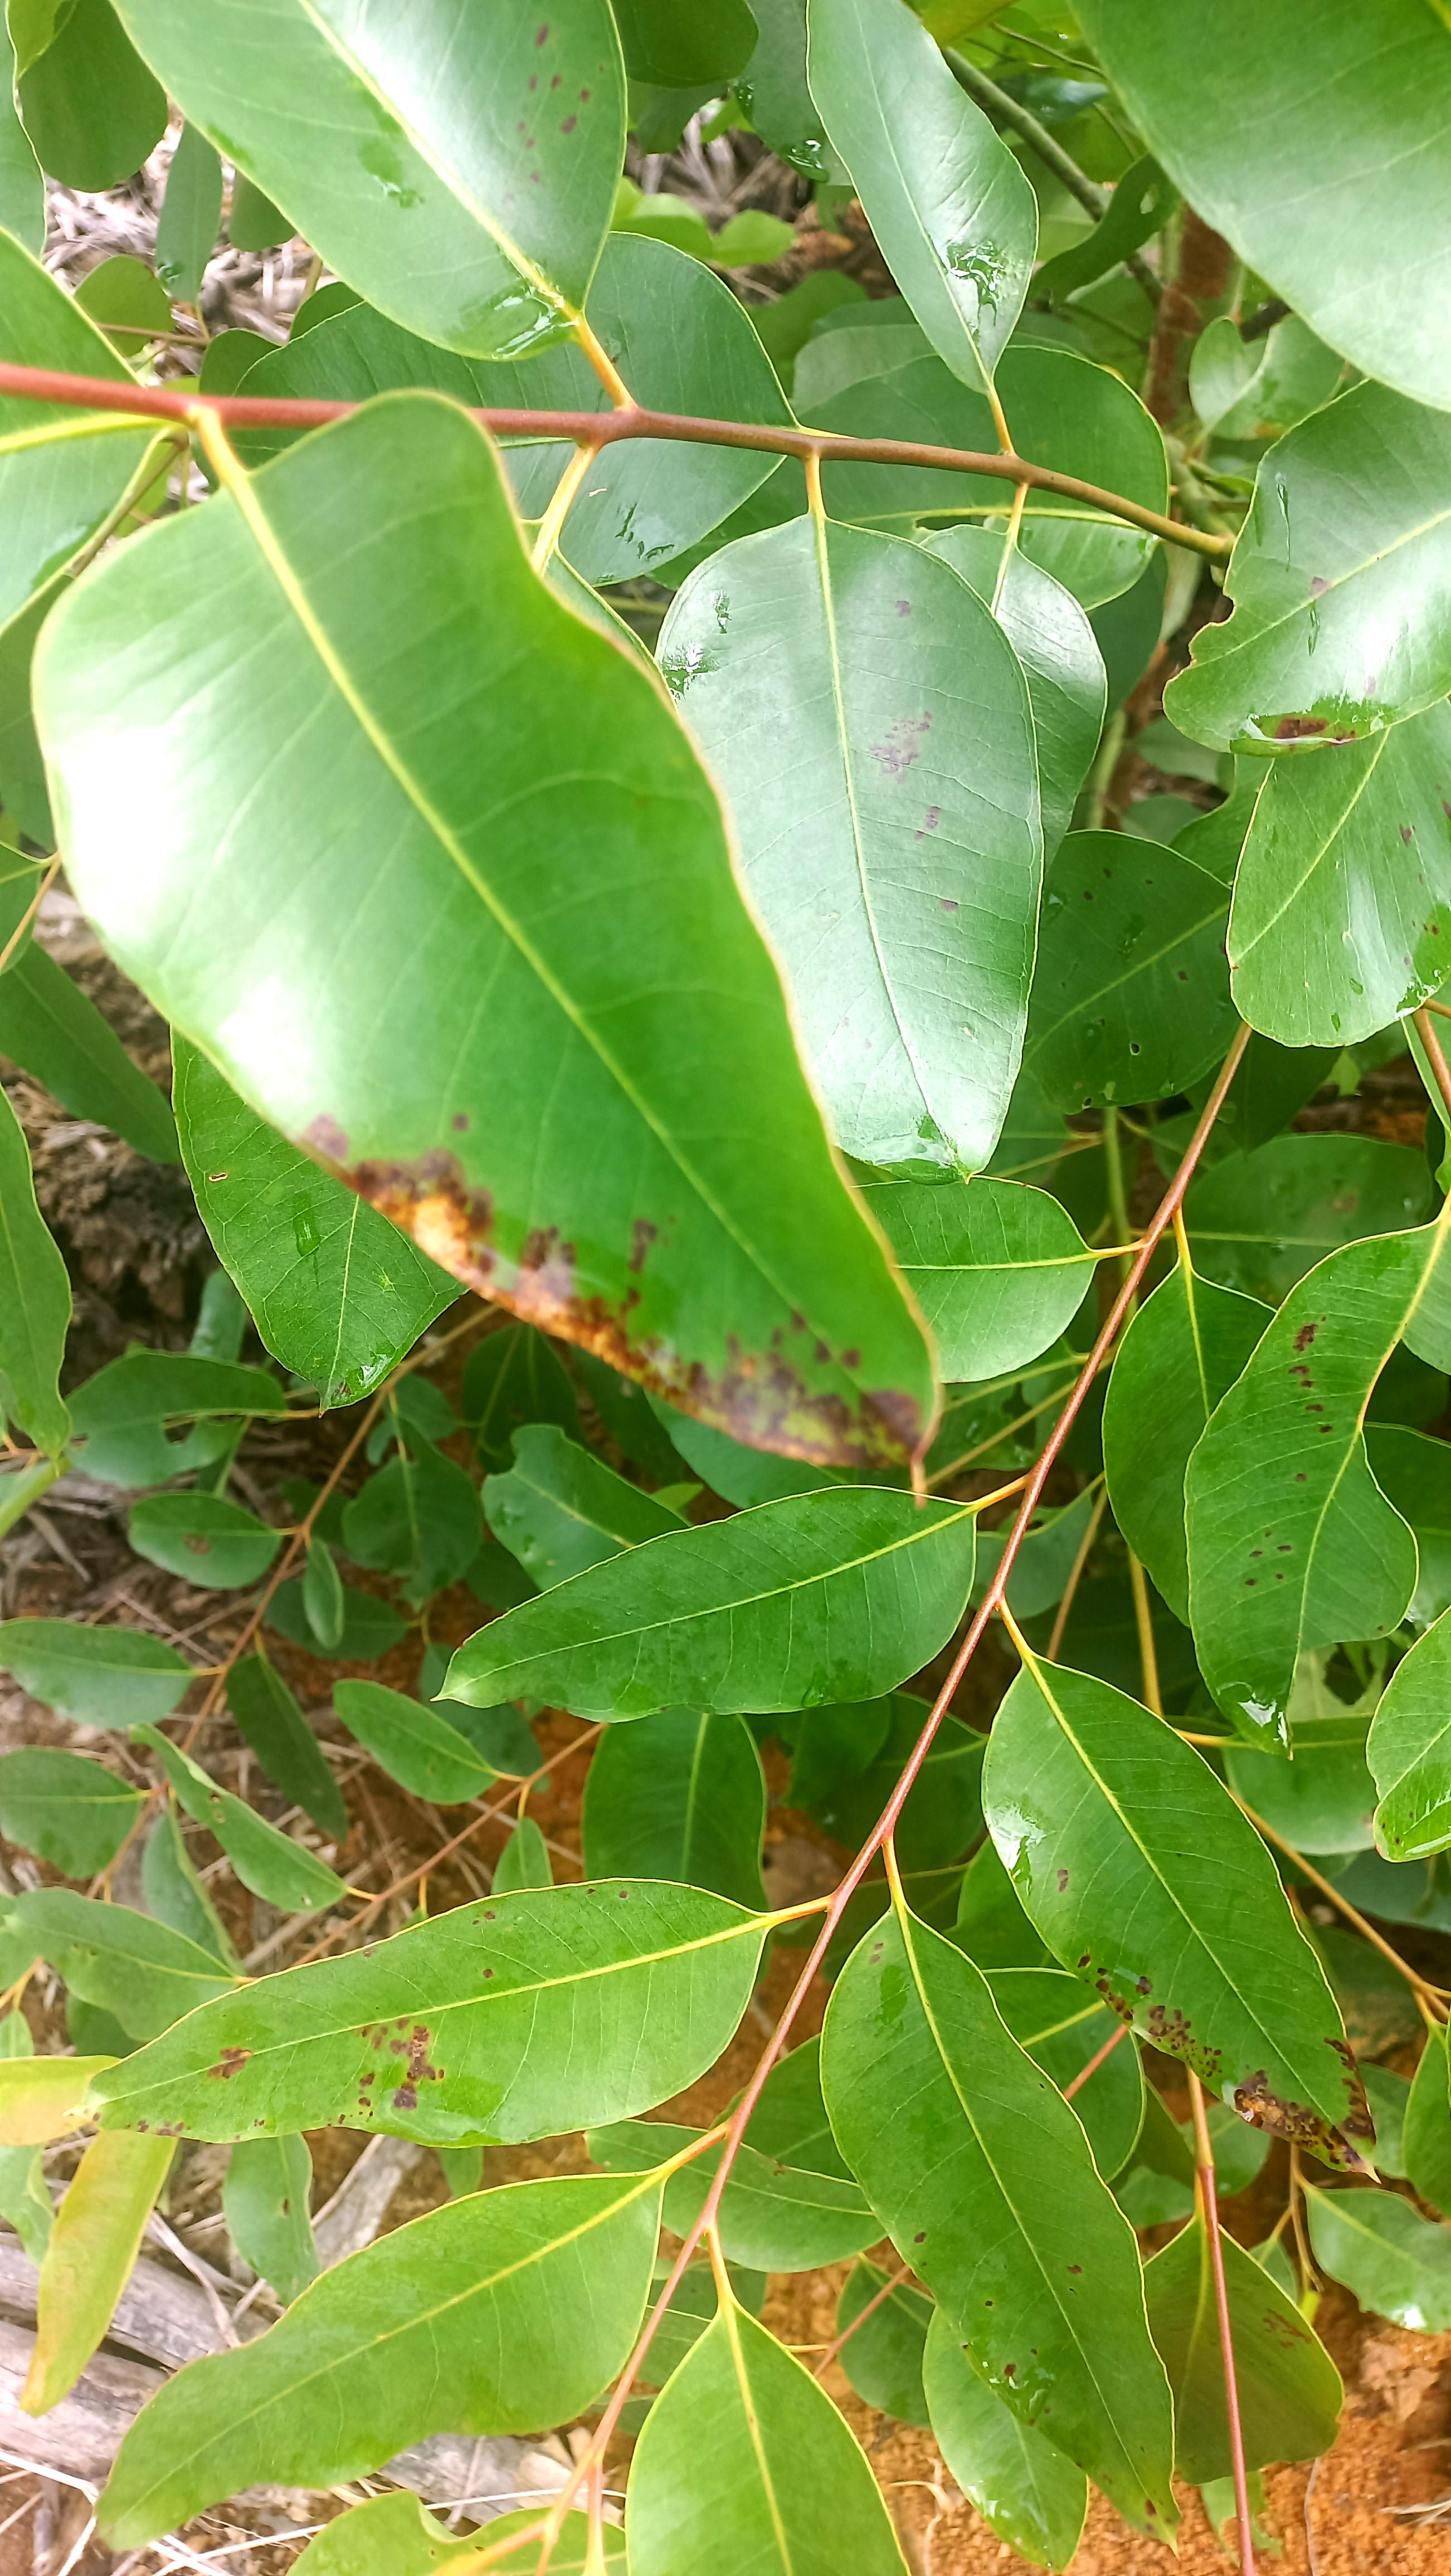Xanthomonas: (274, 1099, 1023, 1509)
